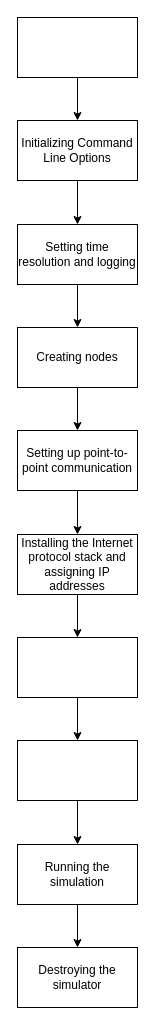
This 155x1025 diagram has some shape labels left out. Each missing label, with the centre of its shape:
"Installing the Echo client application and launching it" goes at point (77, 770).
"Installing the Echo Server App" goes at point (77, 667).
"Start of the programm" goes at point (77, 47).
